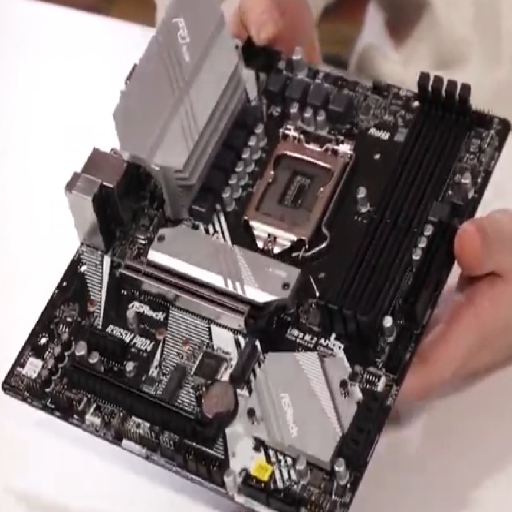CPU: (233, 116, 368, 264)
GPU: (63, 355, 220, 448), (109, 254, 269, 340)
MOTHERBOARD: (3, 8, 505, 512)
RAM: (318, 75, 485, 341)
SSD: (145, 353, 186, 407), (225, 337, 263, 388)
